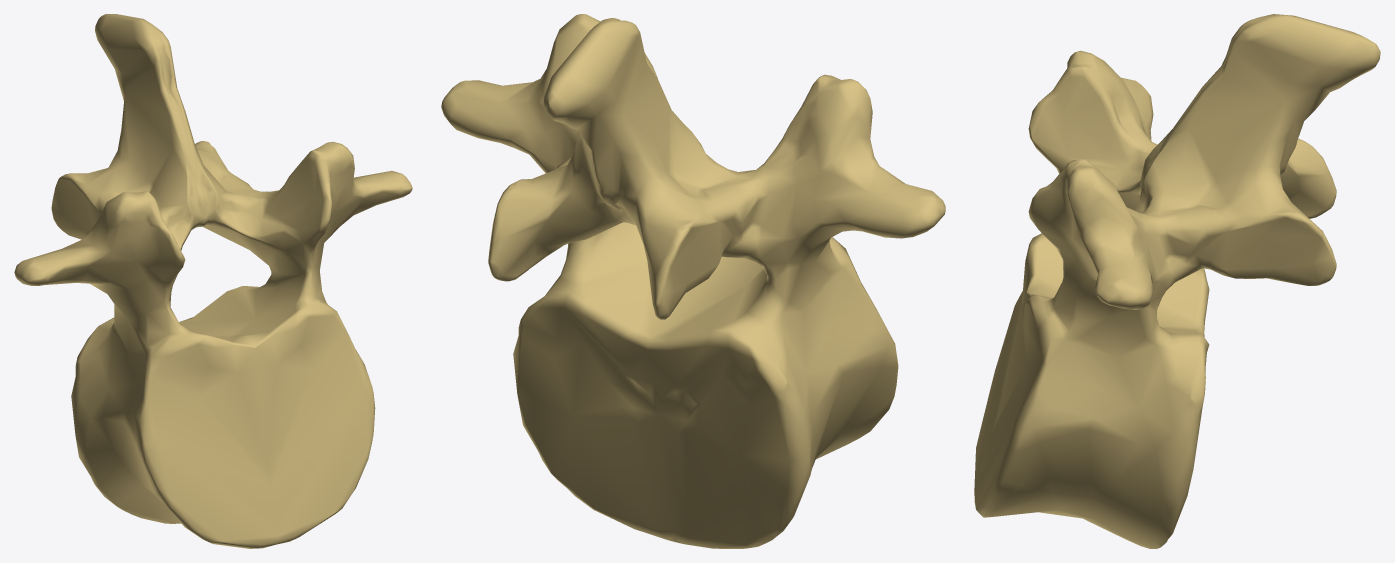
The picture shows the model from 3 angles, left to right: view 1: azimuth 30°, elevation 25°; view 2: azimuth 150°, elevation 25°; view 3: azimuth 270°, elevation 25°; orthographic projection. The views are drawn at different scales.
Visible parts, largest first — view 1: 第一腰椎; view 2: 第一腰椎; view 3: 第一腰椎.
Boxes of the visible parts, bbox=[...] form: 第一腰椎: bbox=[14, 14, 412, 548]; 第一腰椎: bbox=[441, 14, 945, 548]; 第一腰椎: bbox=[974, 14, 1380, 548].
Bounding box in the file's own units: 0.1096 × 0.1224 × 0.0873.
